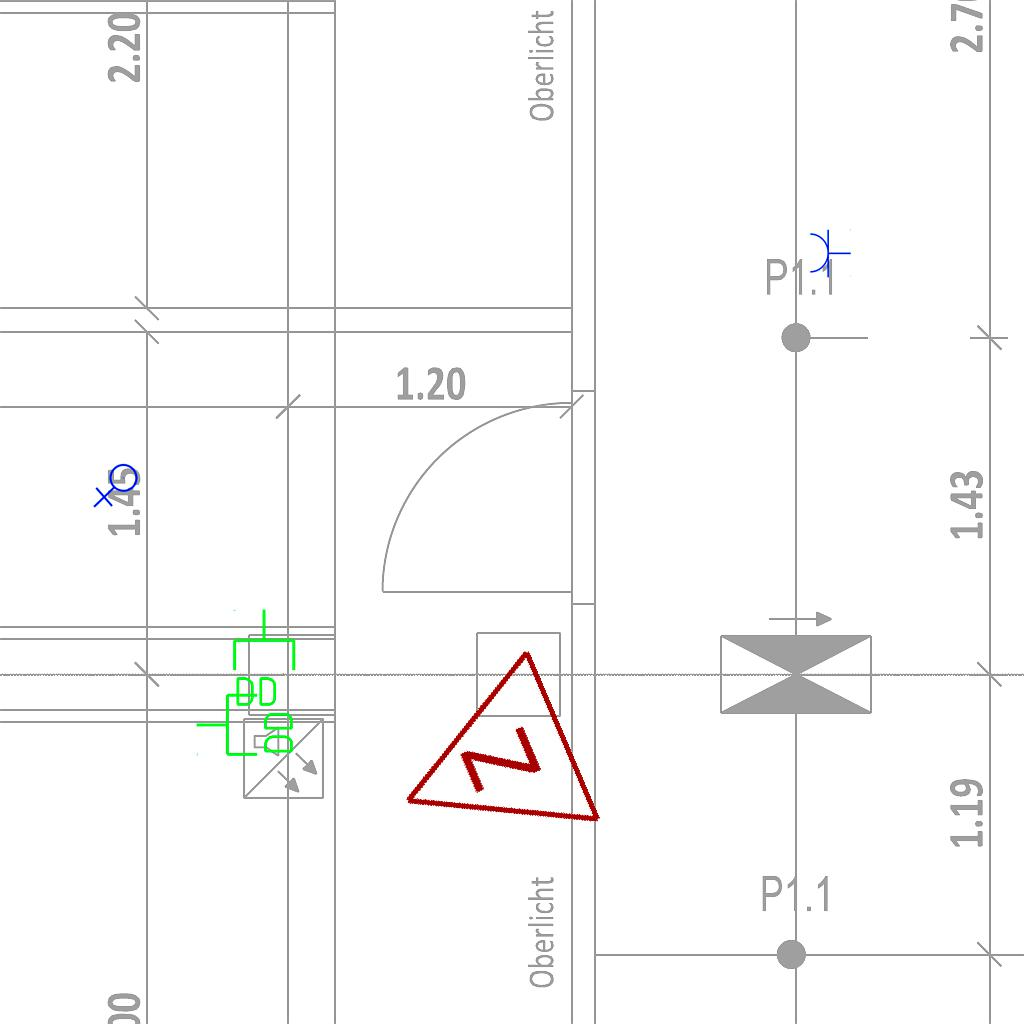Datenanschluss_zweifach: (194, 691, 297, 760), (229, 607, 298, 710)
Elektroanschluss_allgemein_230V_Geraeteanschlussdose_230V: (93, 463, 142, 510)
Schukosteckdose_einfach: (808, 228, 851, 278)
Zimmersignalleuchte: (356, 640, 618, 900)
